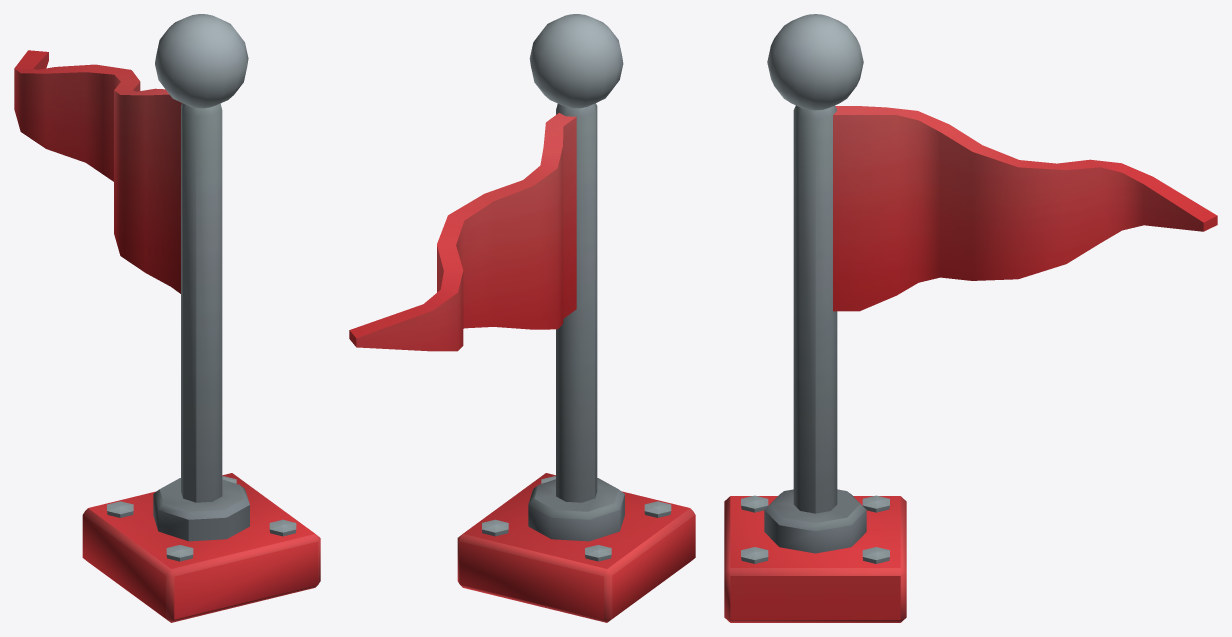
Rendered from kit-bendera.glb.
3 renders of one model, left to right at view 1: azimuth 30°, elevation 25°; view 2: azimuth 150°, elevation 25°; view 3: azimuth 270°, elevation 25°, orthographic. The views are drawn at different scales.
Visible parts, largest first — view 1: flag_A_red; view 2: flag_A_red; view 3: flag_A_red.
Boxes of the visible parts, x1=… form: flag_A_red: x1=14, y1=14, x2=320, y2=622; flag_A_red: x1=349, y1=14, x2=695, y2=622; flag_A_red: x1=724, y1=14, x2=1217, y2=622.
Size of the model in its own units: 0.6395 by 2.2 by 1.73.
Materials: 1 (1 with a texture image).
